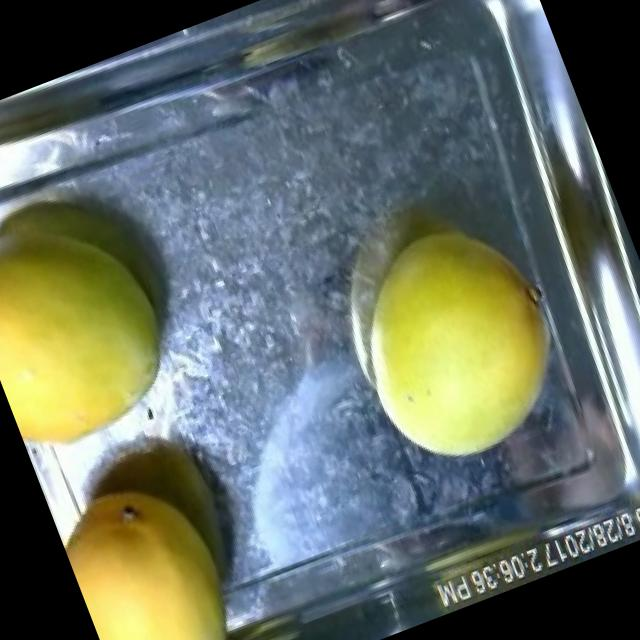fruit: (317, 190, 595, 490), (0, 166, 209, 472), (49, 452, 276, 640)
